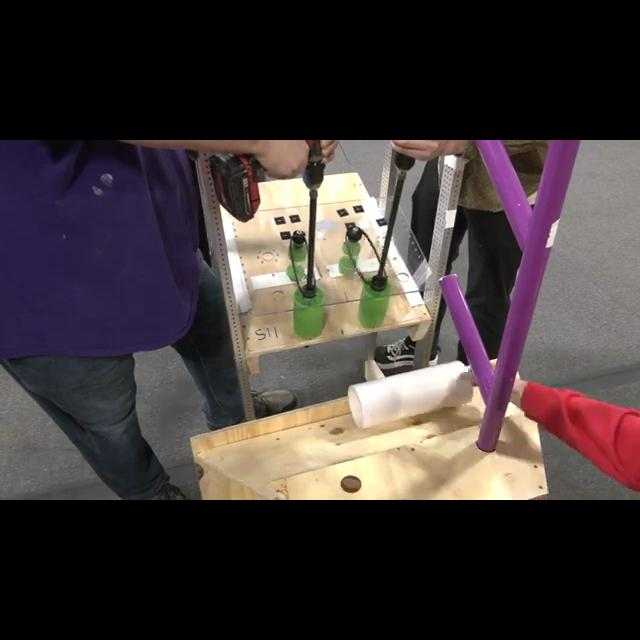CORAL: (346, 359, 474, 428)
